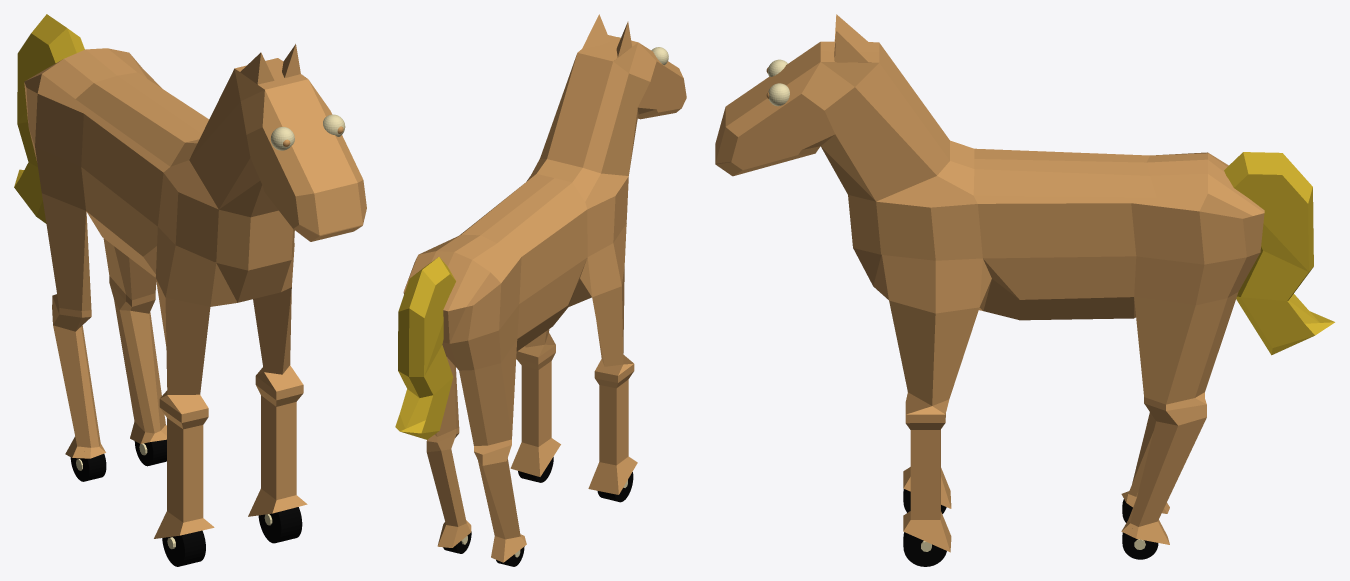
The model's file is WheelHorse.fbx.
3 views of the same model, side by side, from view 1: azimuth 30°, elevation 25°; view 2: azimuth 150°, elevation 25°; view 3: azimuth 270°, elevation 25° (orthographic). The views are drawn at different scales.
Visible parts, largest first — view 1: Cube; view 2: Cube; view 3: Cube.
Boxes of the visible parts, box(x1,y1,x2,y2) form: Cube: box(14, 14, 366, 566); Cube: box(395, 14, 686, 566); Cube: box(715, 14, 1334, 566).
Bounding box in the file's own units: 101 × 396 × 429.
